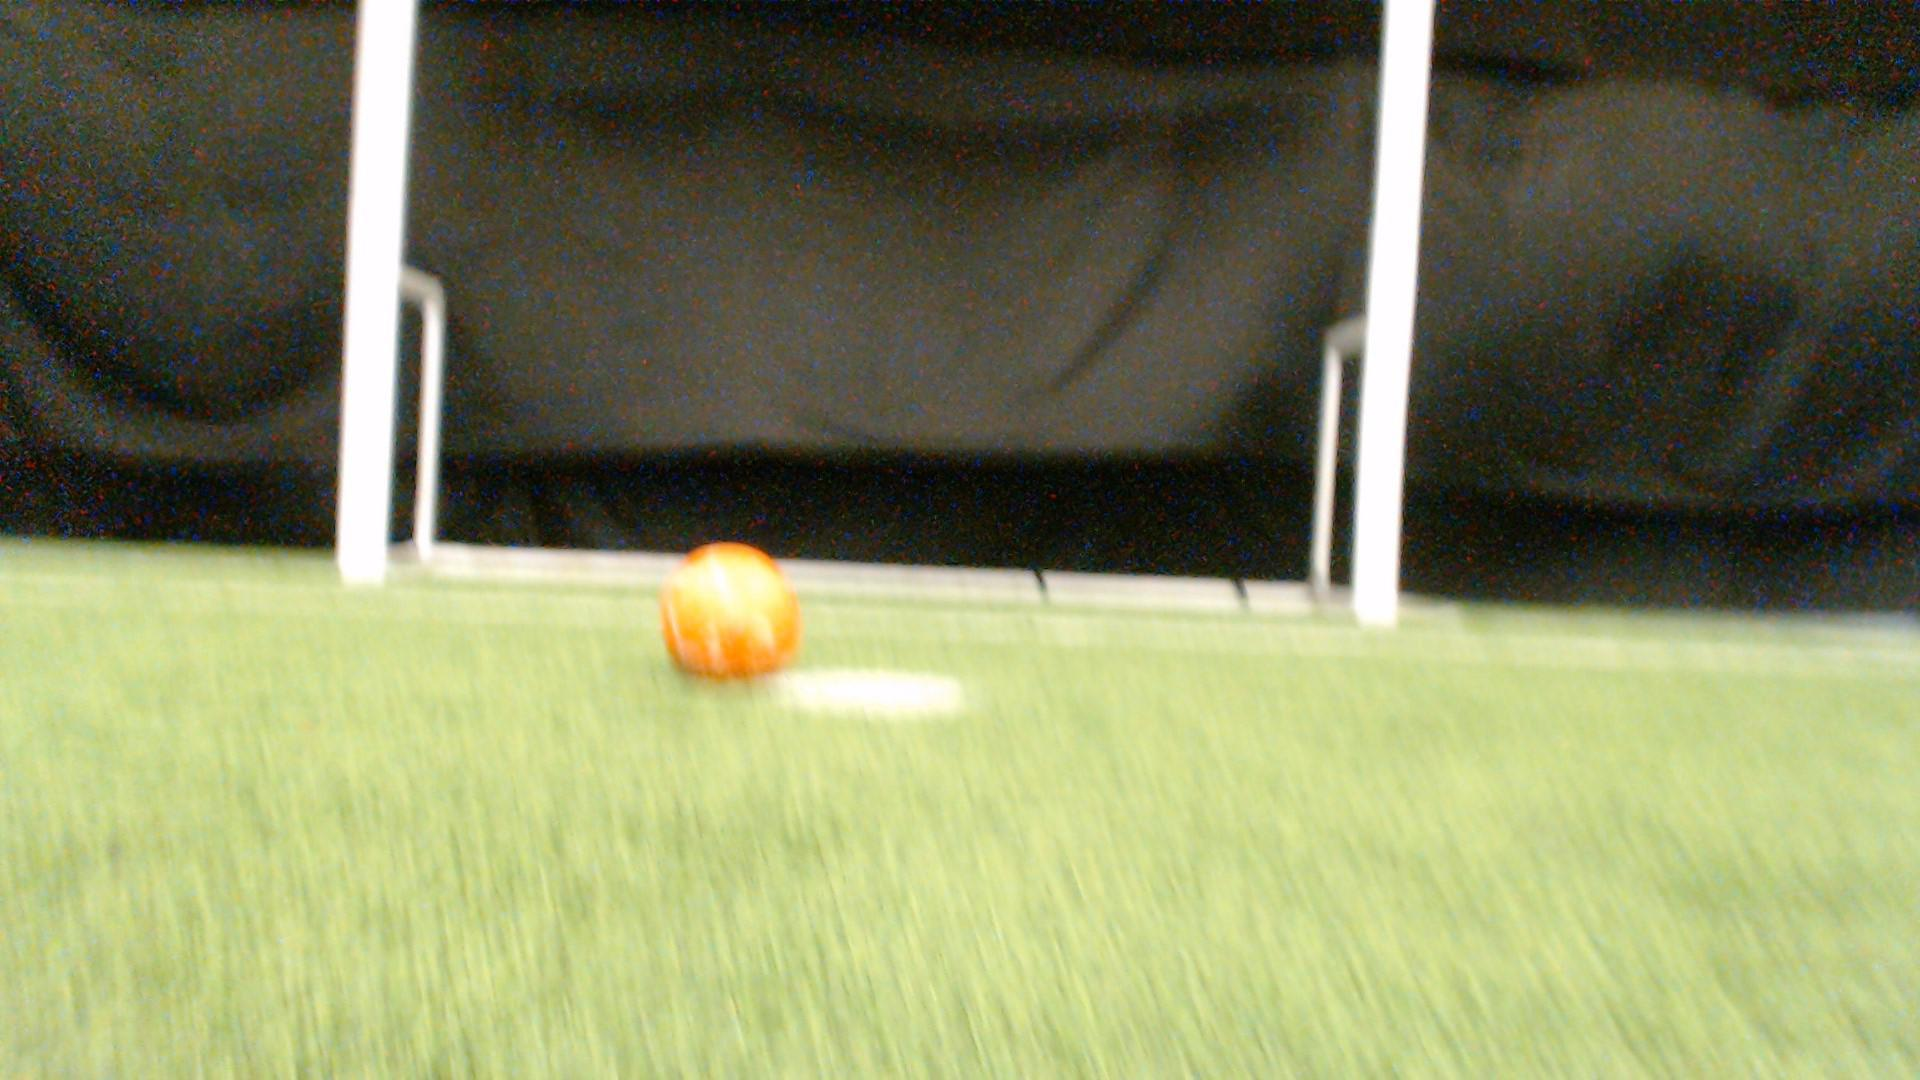bola: (641, 529, 825, 699)
